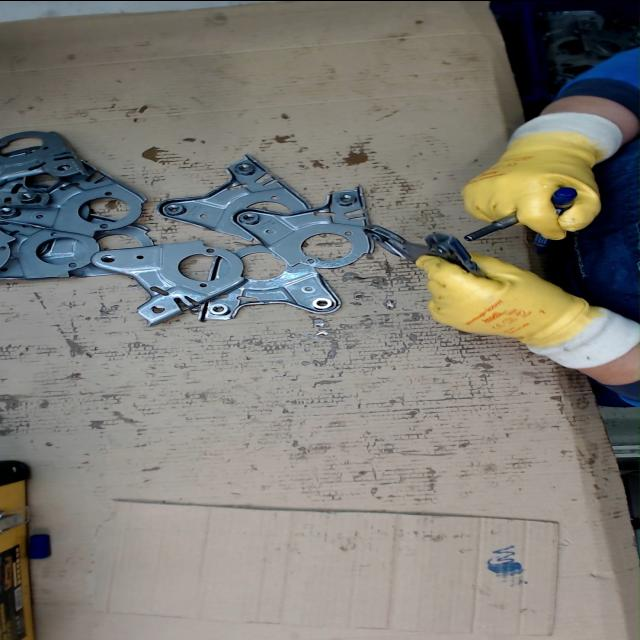hands: (461, 131, 606, 241), (416, 252, 576, 346)
